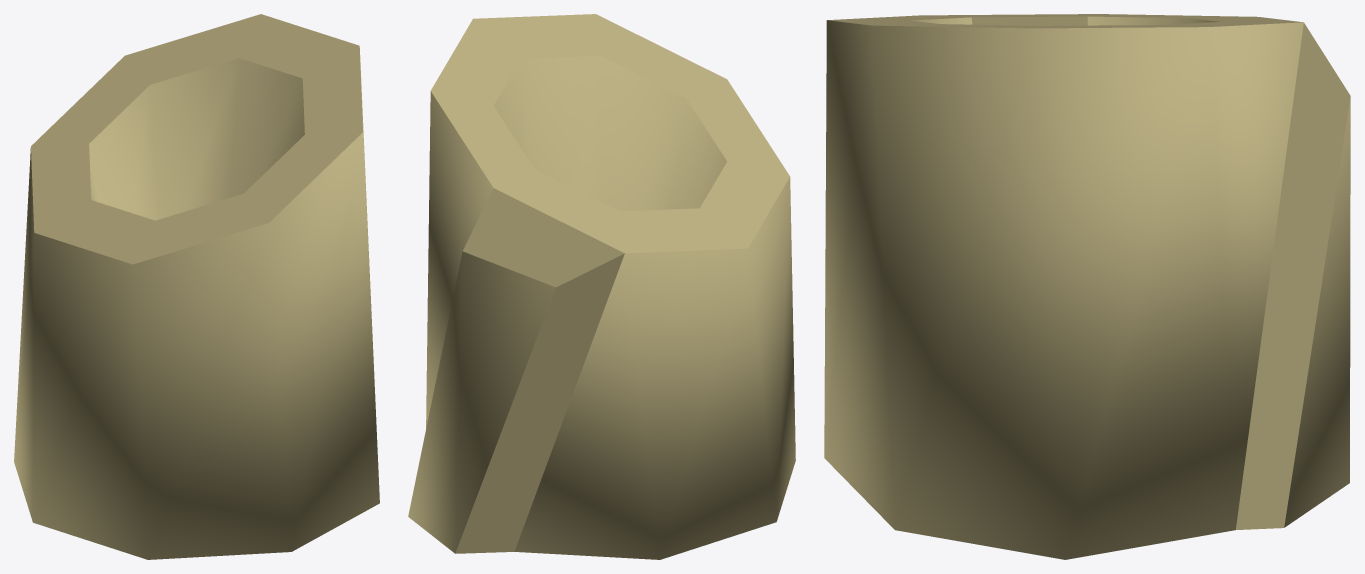
The model's file is lacune.fbx_PropContainer.fbx.
The picture shows the model from 3 angles, left to right: view 1: azimuth 30°, elevation 25°; view 2: azimuth 150°, elevation 25°; view 3: azimuth 270°, elevation 25°; orthographic projection. The views are drawn at different scales.
Parts seen in each view (by area): view 1: PropContainer; view 2: PropContainer; view 3: PropContainer.
Part boxes in pixels (x1,y1,x2,y2): PropContainer: [14, 14, 379, 559]; PropContainer: [408, 14, 795, 559]; PropContainer: [824, 14, 1350, 559].
Size of what is drawn, in the model's own units: 43.93 by 52.51 by 47.96.
